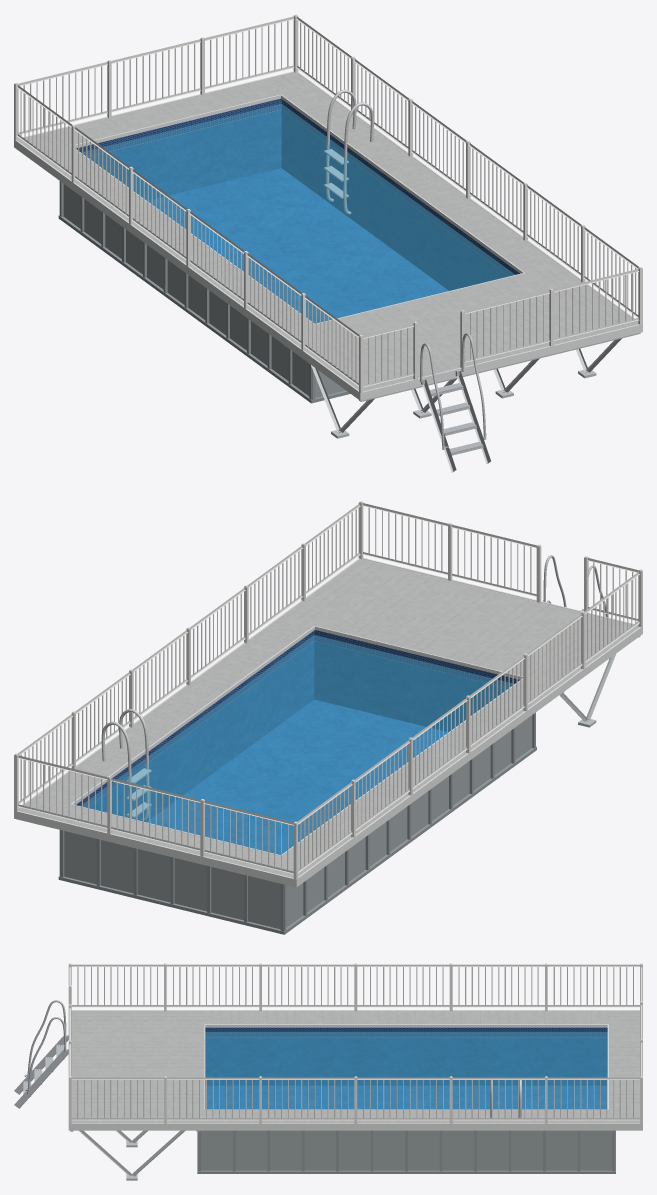
Rendered from kayak-pool-12x24-gray-end-ag-fence.0a9a1359db.glb.
3 renders of one model, top to bottom at view 1: azimuth 30°, elevation 25°; view 2: azimuth 150°, elevation 25°; view 3: azimuth 270°, elevation 25°, orthographic. The views are drawn at different scales.
Visible parts, largest first — view 1: water, deck, fence, liner_wall, liner_floor, fascia, wall, upright, ladder, stud, steel; view 2: water, deck, fence, liner_wall, liner_floor, wall, fascia, upright, steel, stud; view 3: water, deck, liner_wall, fence, wall, liner_floor, fascia, upright, ladder, stud.
Boxes of the visible parts, box(x1,y1,x2,y2) form: water: box(81, 103, 514, 323); deck: box(17, 72, 638, 391); fence: box(14, 14, 642, 392); liner_wall: box(76, 98, 519, 290); liner_floor: box(148, 168, 448, 323); fascia: box(14, 71, 642, 400); wall: box(63, 184, 345, 397); upright: box(58, 181, 350, 403); ladder: box(420, 333, 490, 472); stud: box(283, 332, 640, 438); steel: box(324, 89, 373, 214); water: box(81, 635, 512, 854); deck: box(18, 558, 638, 877); fence: box(14, 501, 642, 879); liner_wall: box(76, 630, 519, 821); liner_floor: box(147, 699, 446, 854); wall: box(64, 715, 532, 929); fascia: box(14, 558, 642, 887); upright: box(58, 712, 536, 934); steel: box(101, 709, 151, 820); stud: box(559, 636, 640, 727); water: box(205, 1032, 607, 1109); deck: box(71, 1010, 639, 1123); liner_wall: box(205, 1027, 607, 1085); fence: box(68, 963, 642, 1123); wall: box(201, 1130, 611, 1170); liner_floor: box(205, 1085, 606, 1109); fascia: box(68, 1010, 642, 1130); upright: box(197, 1130, 615, 1173); ladder: box(14, 1000, 68, 1108); stud: box(70, 1130, 199, 1180).
Size of the model in its own units: 4.88 by 2.15 by 11.35.
Materials: 11 (3 with a texture image).
